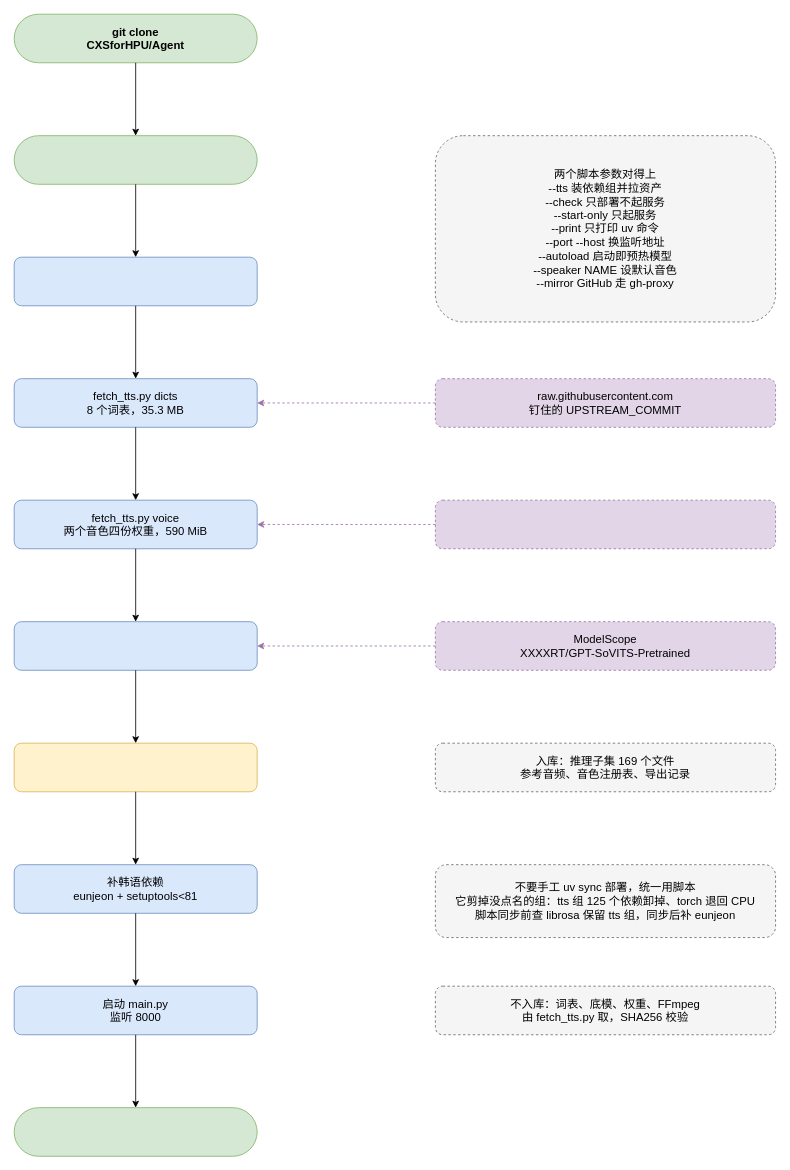
Image size: 790x1170. Some labels were removed from this diagram. Each missing label, with the centre of its shape:
"bash deploy.sh --tts deploy.bat --tts 一条命令跑完下面几步" goes at pixel 135 159.
"fetch_tts.py assets 底模、G2PW、nltk、FFmpeg" goes at pixel 135 645.
"fetch_tts.py check 逐项核对 SHA256" goes at pixel 135 767.
"ModelScope Caoxiansong/da_fei_yv" goes at pixel 605 524.
"POST /tts 整条 WAV 或流式帧" goes at pixel 135 1131.
"装配环境 uv sync 按算力选 cpu / cu126 / cu130" goes at pixel 135 281.
